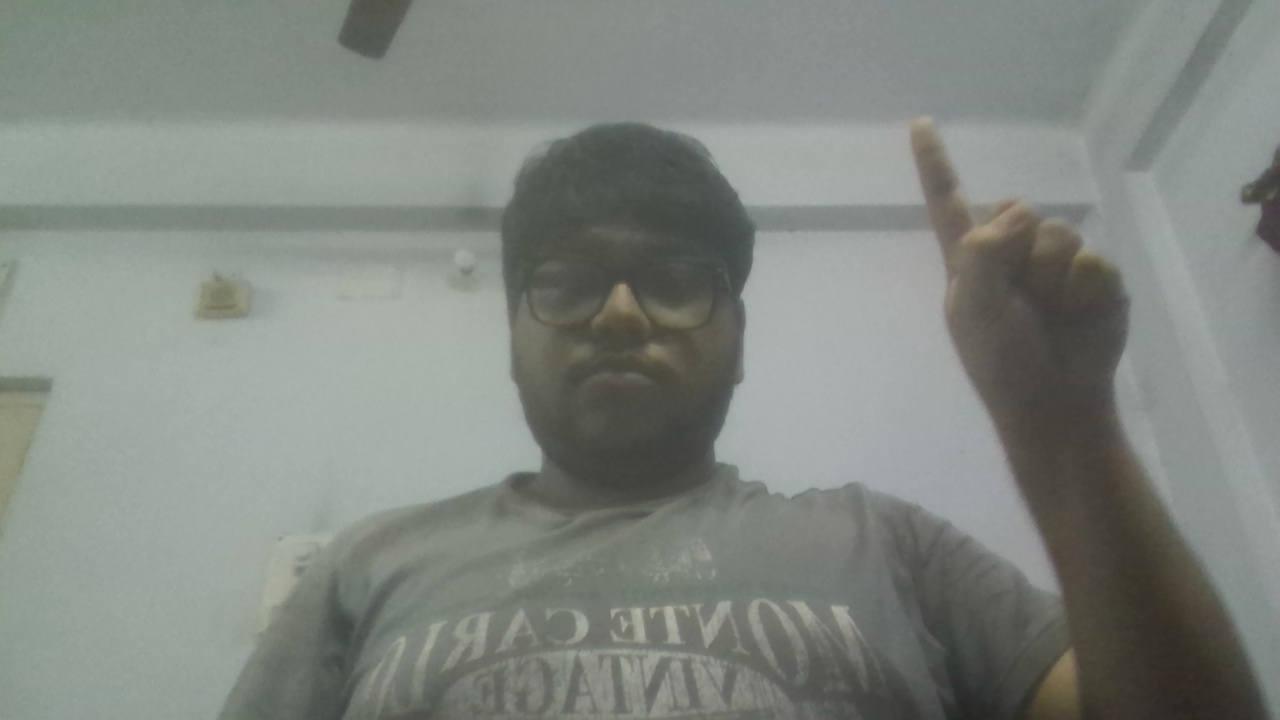Gesture1: (900, 103, 1147, 448)
